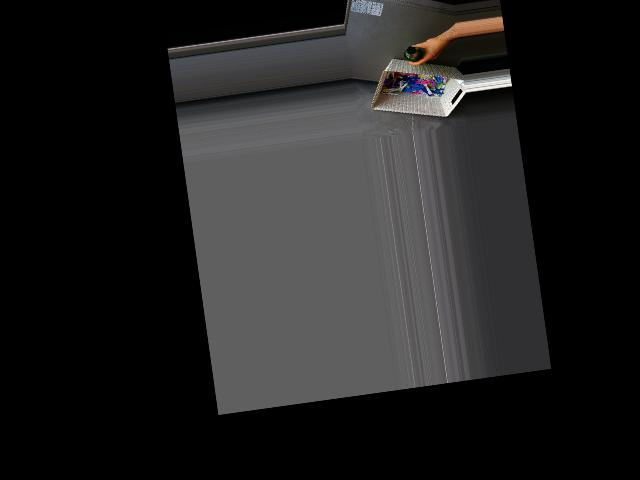beer: (402, 44, 424, 63)
